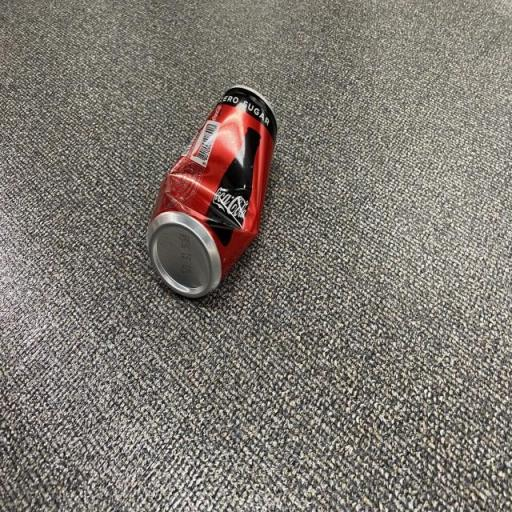metal: (134, 58, 294, 325)
